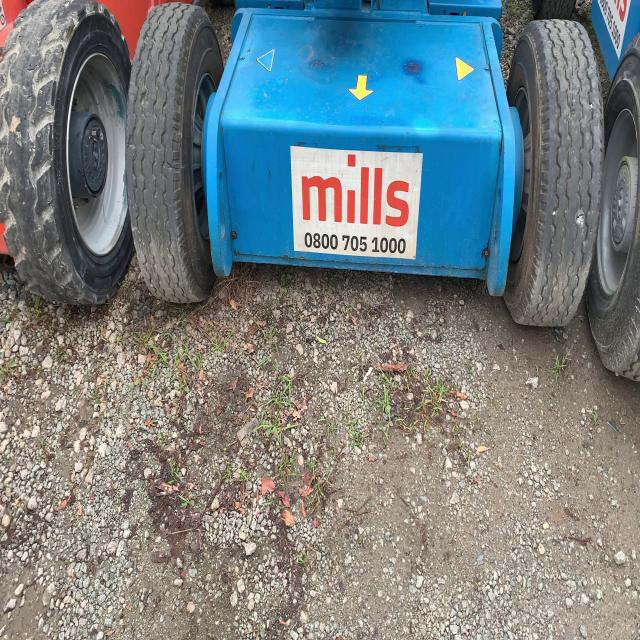Adesivos: (290, 143, 424, 262)
